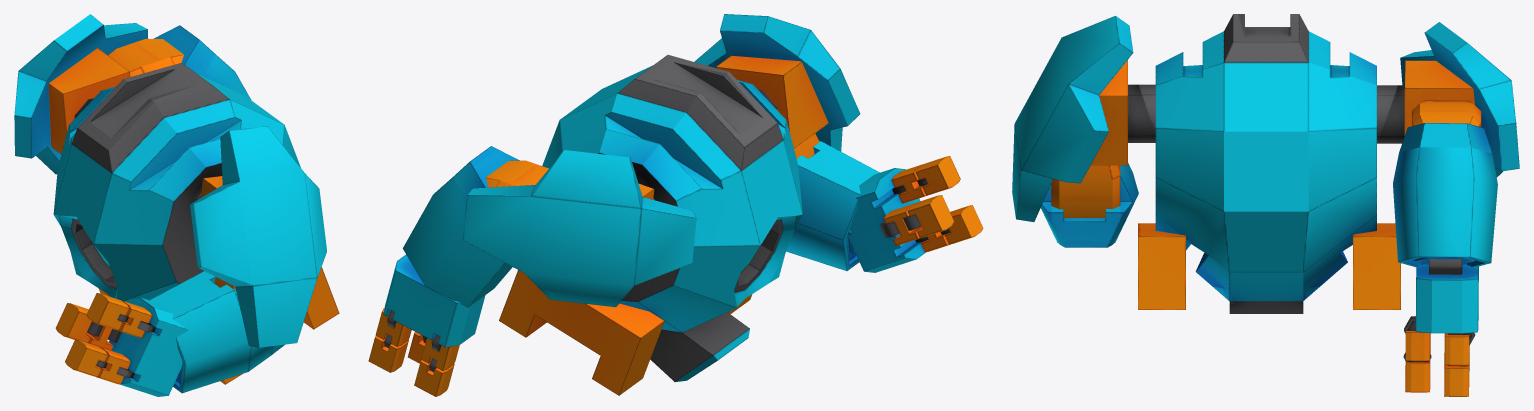
The model's file is Body_Running38.obj.
3 renders of one model, left to right at view 1: azimuth 30°, elevation 25°; view 2: azimuth 150°, elevation 25°; view 3: azimuth 270°, elevation 25°, orthographic. The views are drawn at different scales.
Visible parts, largest first — view 1: Plane001, Object006, Object002, Object008, Object007, Object003; view 2: Plane001, Object002, Object006, Object008, Object004, Object003, Object007; view 3: Plane001, Object006, Object003, Object002, Object004, Object007, Object005, Object001.
Part boxes in pixels (x1=…): Plane001: x1=53, y1=63, x2=339, y2=384; Object006: x1=190, y1=126, x2=326, y2=347; Object002: x1=14, y1=14, x2=183, y2=174; Object008: x1=55, y1=293, x2=188, y2=396; Object007: x1=149, y1=271, x2=284, y2=393; Object003: x1=153, y1=25, x2=251, y2=100; Plane001: x1=499, y1=55, x2=802, y2=395; Object002: x1=463, y1=150, x2=696, y2=307; Object006: x1=694, y1=14, x2=860, y2=158; Object008: x1=847, y1=156, x2=983, y2=272; Object004: x1=368, y1=254, x2=485, y2=396; Object003: x1=403, y1=146, x2=519, y2=307; Object007: x1=786, y1=141, x2=879, y2=270; Plane001: x1=1138, y1=14, x2=1400, y2=313; Object006: x1=1012, y1=16, x2=1133, y2=221; Object003: x1=1393, y1=123, x2=1497, y2=267; Object002: x1=1400, y1=22, x2=1519, y2=177; Object004: x1=1403, y1=259, x2=1478, y2=396; Object007: x1=1041, y1=163, x2=1138, y2=247; Object005: x1=1128, y1=84, x2=1155, y2=142; Object001: x1=1377, y1=85, x2=1404, y2=143.
Size of the model in its own units: 171 by 118 by 182.
